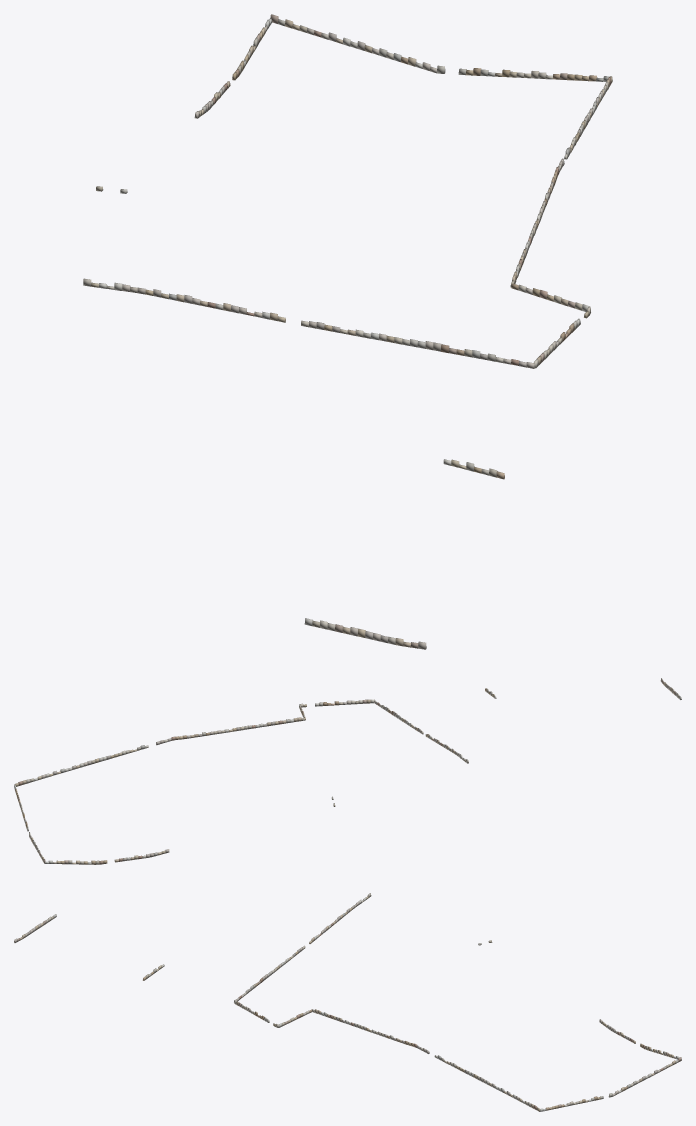
File: farm_-25_-20_collision.glb
3 renders of one model, top to bottom at view 1: azimuth 30°, elevation 25°; view 2: azimuth 150°, elevation 25°; view 3: azimuth 270°, elevation 25°, orthographic. The views are drawn at different scales.
Parts seen in each view (by area): view 1: geometry_0; view 2: geometry_0; view 3: geometry_0.
Boxes of the visible parts, x1,y1,x2,y2 form: geometry_0: [83, 14, 612, 649]; geometry_0: [14, 678, 681, 864]; geometry_0: [14, 893, 681, 1111].
Bounding box in the file's own units: 187 × 26.16 × 273.
